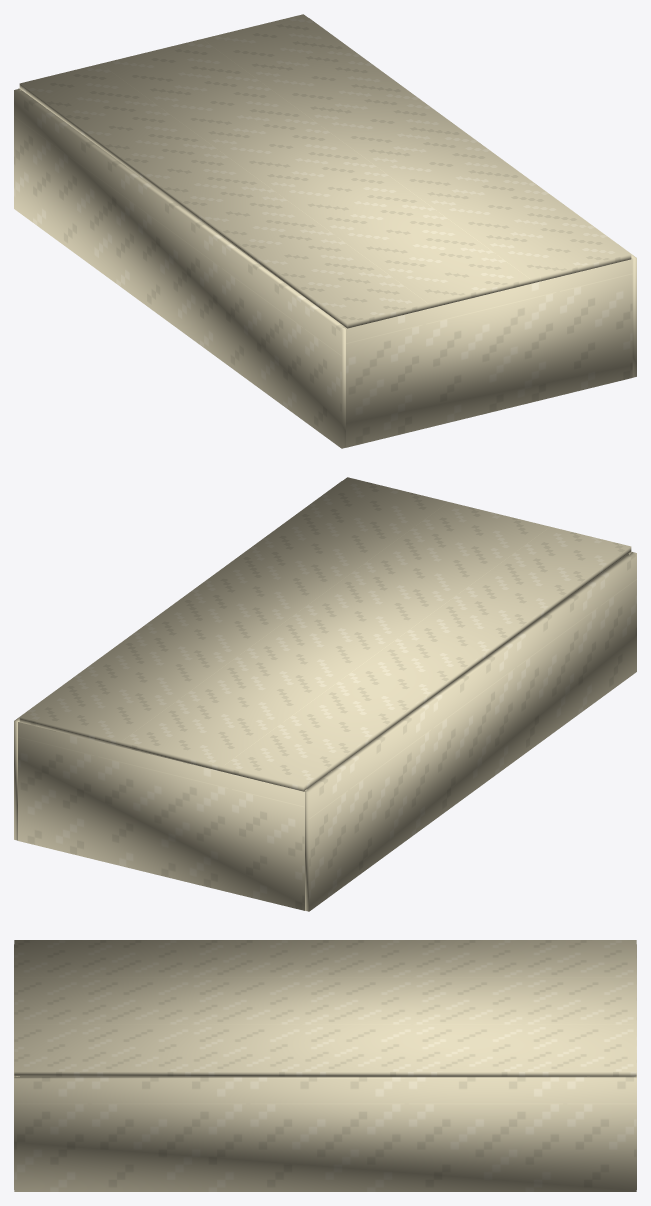
The model's file is InteriorBanco.fbx.
3 views of the same model, one above another, from view 1: azimuth 30°, elevation 25°; view 2: azimuth 150°, elevation 25°; view 3: azimuth 270°, elevation 25° (orthographic). The views are drawn at different scales.
Visible parts, largest first — view 1: Cube.002; view 2: Cube.002; view 3: Cube.002.
Part boxes in pixels (x1,y1,x2,y2): Cube.002: (14,14,636,448); Cube.002: (14,477,636,911); Cube.002: (14,940,636,1191).
Bounding box in the file's own units: 5200 × 2088 × 10010.
